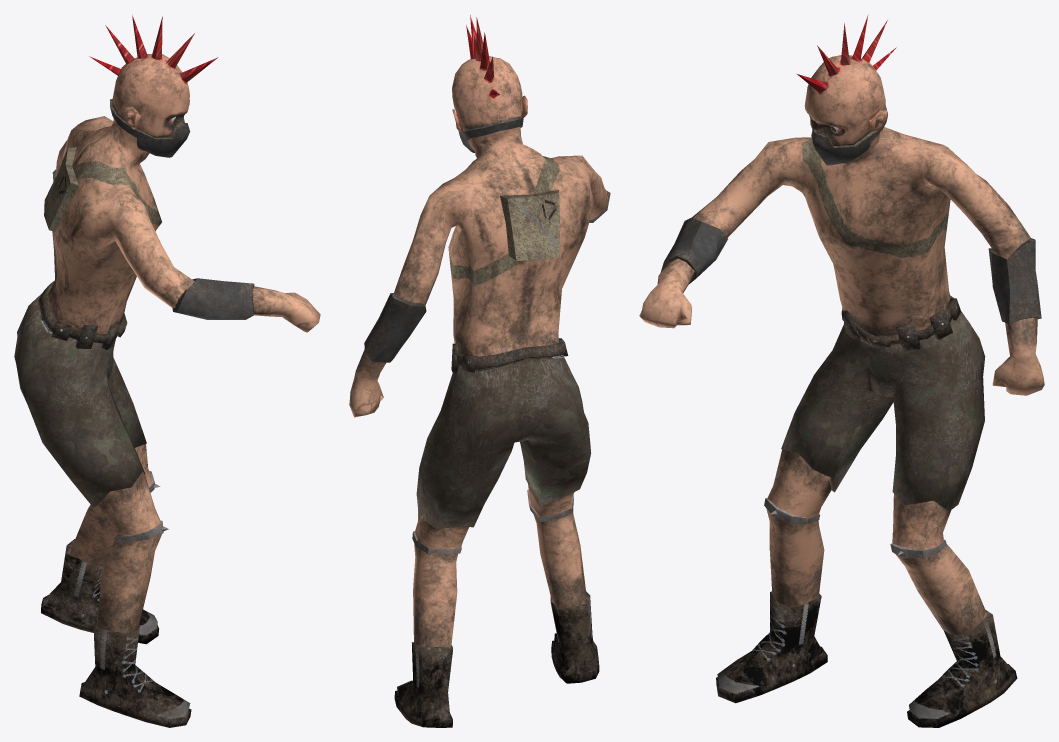
The model's file is Anim_interruptor_npc2.0029.obj.
3 renders of one model, left to right at view 1: azimuth 30°, elevation 25°; view 2: azimuth 150°, elevation 25°; view 3: azimuth 270°, elevation 25°, orthographic. The views are drawn at different scales.
Parts seen in each view (by area): view 1: polySurface1; view 2: polySurface1; view 3: polySurface1.
Boxes of the visible parts, left/top/right/bottom form: polySurface1: left=14, top=14, right=320, bottom=727; polySurface1: left=349, top=14, right=610, bottom=727; polySurface1: left=639, top=15, right=1044, bottom=727.
Bounding box in the file's own units: 3 × 9.73 × 5.16.
2 materials, 2 textured.
